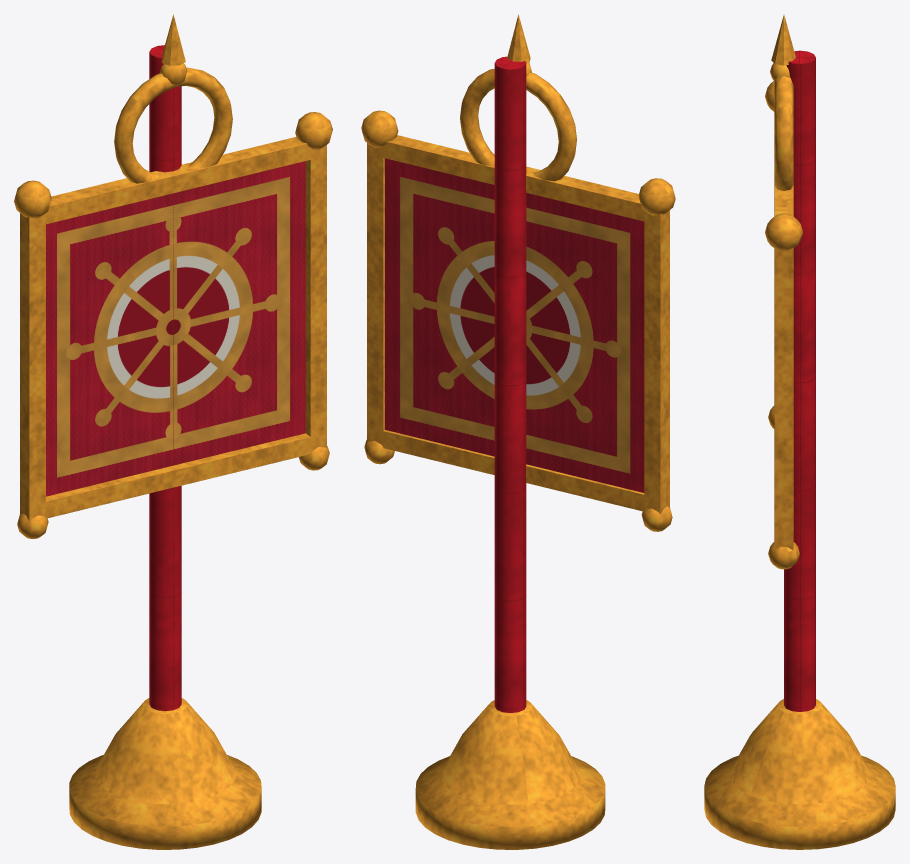
File: CHO_FlagStand.fbx
The picture shows the model from 3 angles, left to right: view 1: azimuth 30°, elevation 25°; view 2: azimuth 150°, elevation 25°; view 3: azimuth 270°, elevation 25°; orthographic projection.
Parts seen in each view (by area): view 1: CHO_FlagStand; view 2: CHO_FlagStand; view 3: CHO_FlagStand.
Part boxes in pixels (<box>): CHO_FlagStand: <box>14,14,332,849</box>; CHO_FlagStand: <box>361,14,675,849</box>; CHO_FlagStand: <box>704,14,895,849</box>.
Size of the model in its own units: 1.12 by 2.75 by 0.6.
